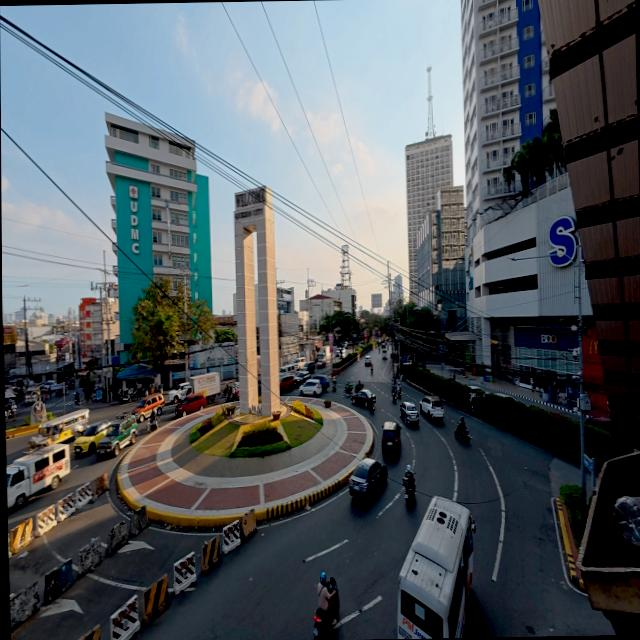Jeepneys: (26, 408, 90, 451)
bus: (398, 497, 474, 638)
car: (350, 458, 387, 501), (74, 421, 110, 455), (132, 394, 164, 422), (175, 394, 207, 417), (382, 422, 401, 455), (420, 397, 443, 420), (168, 382, 192, 403), (352, 389, 376, 407), (400, 402, 419, 424), (300, 380, 322, 397), (585, 417, 611, 431), (311, 375, 330, 392), (470, 386, 486, 403), (280, 375, 296, 392), (294, 370, 310, 386), (495, 392, 516, 401), (303, 361, 315, 372), (316, 359, 326, 369), (337, 348, 346, 358), (365, 356, 371, 366), (382, 347, 387, 358), (342, 341, 348, 348)
motorcycle: (314, 577, 340, 639), (403, 477, 415, 504), (146, 413, 159, 433), (454, 427, 470, 443), (120, 389, 132, 403), (344, 382, 353, 396), (369, 397, 376, 413), (9, 403, 17, 417), (75, 393, 80, 406), (396, 385, 401, 398), (155, 384, 163, 392), (355, 383, 361, 393), (333, 379, 337, 391), (393, 391, 397, 402), (370, 366, 373, 375)
trucks: (190, 372, 220, 403)
vans: (6, 444, 70, 508), (96, 414, 138, 458), (278, 363, 297, 377), (24, 388, 40, 404), (294, 357, 306, 371)
